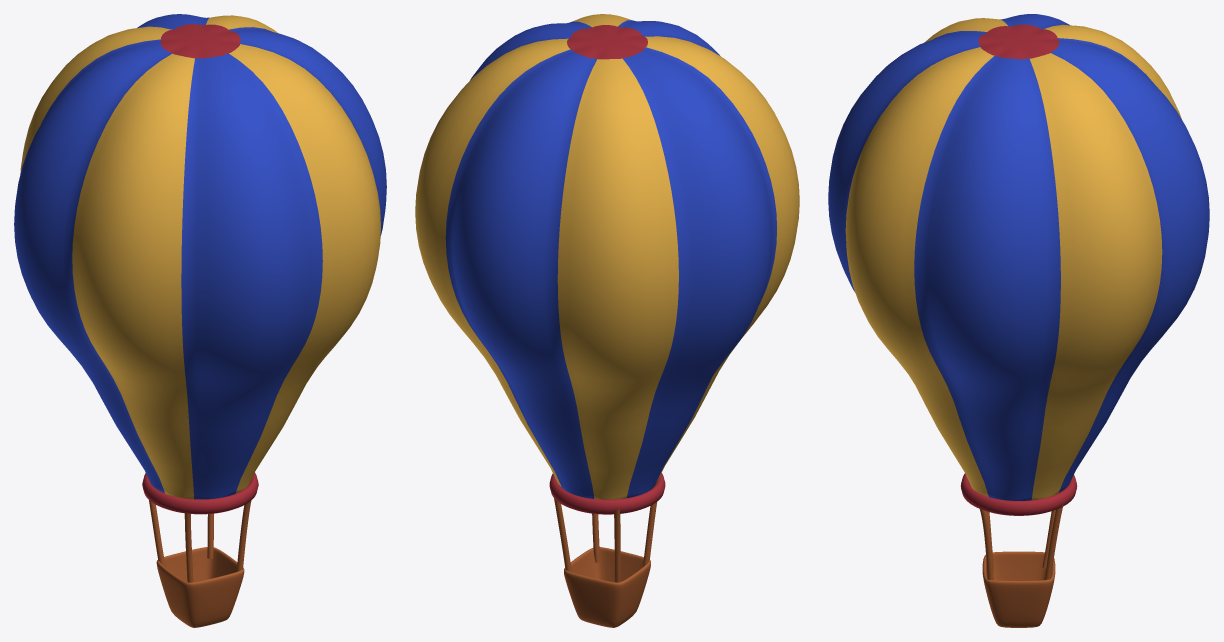
Rendered from Balloon06.fbx.
The picture shows the model from 3 angles, left to right: view 1: azimuth 30°, elevation 25°; view 2: azimuth 150°, elevation 25°; view 3: azimuth 270°, elevation 25°; orthographic projection.
Parts seen in each view (by area): view 1: Cylinder; view 2: Cylinder; view 3: Cylinder.
Boxes of the visible parts, left/top/right/bottom form: Cylinder: left=14, top=14, right=386, bottom=627; Cylinder: left=415, top=14, right=799, bottom=627; Cylinder: left=828, top=14, right=1209, bottom=627.
Size of the model in its own units: 245 by 412 by 245.
